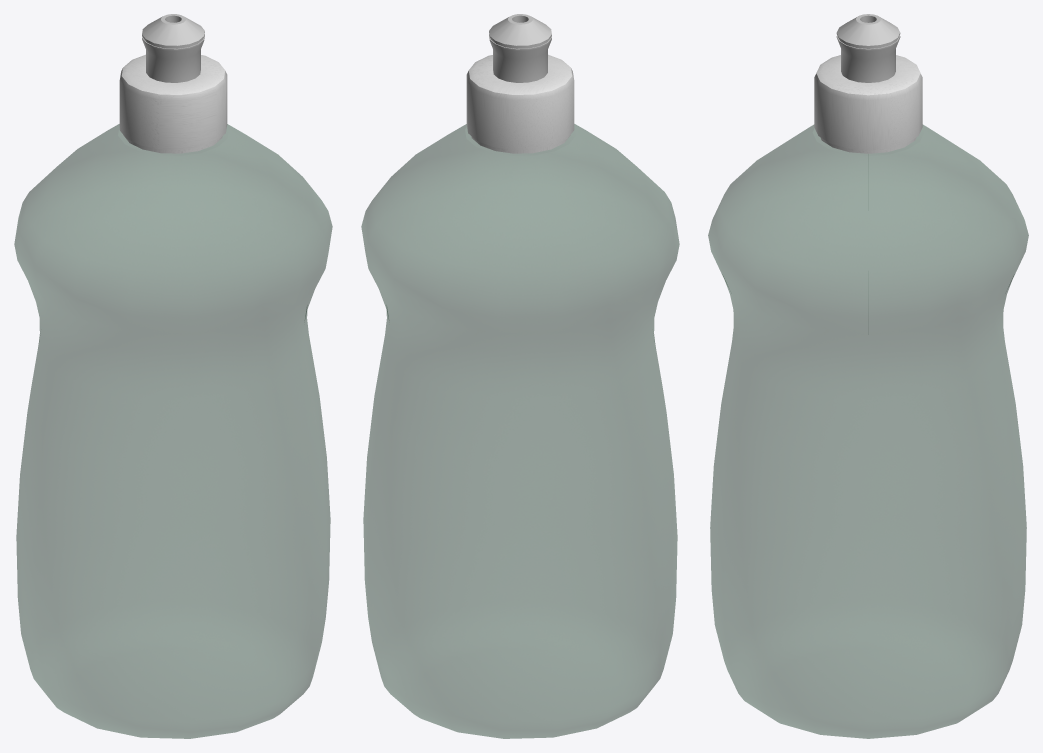
The model's file is detergent.fbx.
3 views of the same model, side by side, from view 1: azimuth 30°, elevation 25°; view 2: azimuth 150°, elevation 25°; view 3: azimuth 270°, elevation 25° (orthographic).
Parts seen in each view (by area): view 1: detergent; view 2: detergent; view 3: detergent.
Boxes of the visible parts, x1,y1,x2,y2 form: detergent: (14,14,332,738); detergent: (361,14,679,738); detergent: (708,14,1028,738).
Bounding box in the file's own units: 6.83 × 15.79 × 6.83.
